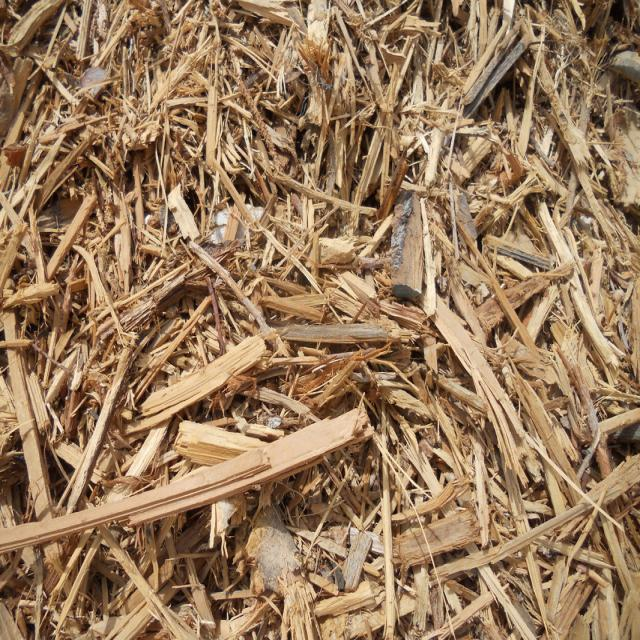green waste: (0, 4, 635, 636)
